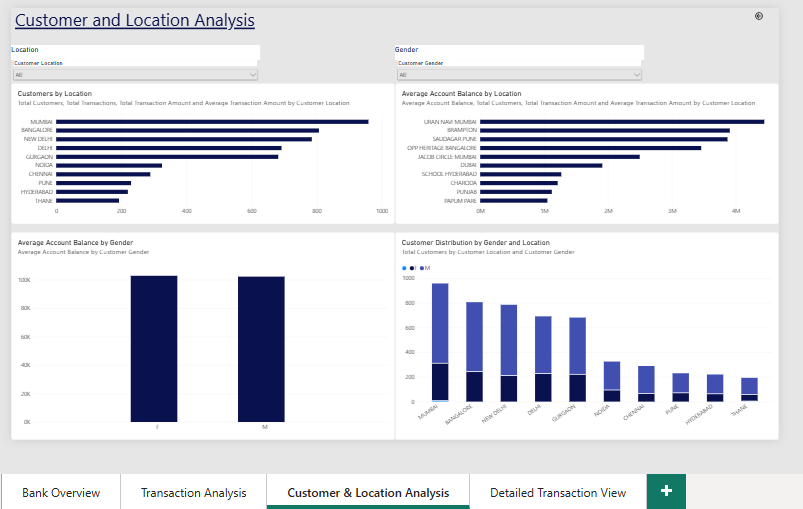

Layout of this report page (visuals, bound fields, positions):
{"tool":"powerbi","page":{"name":" Customer & Location Analysis","canvas":[1920,1080],"ordinal":2},"visuals":[{"type":"textbox","box":[10,0,612.5,57.5],"z":0},{"type":"slicer","title":"Location","fields":{"Values":["bank_transactions.Customer Location"]},"box":[0,92.5,622.5,95],"z":1000},{"type":"slicer","title":"Gender","fields":{"Values":["bank_transactions.Customer Gender"]},"box":[960,92.5,622.5,95],"z":2000},{"type":"clusteredBarChart","title":"Customers by Location","fields":{"Category":["bank_transactions.Customer Location"],"Y":["bank_transactions.Total Customers"]},"box":[0,187.5,960,352.5],"z":3000},{"type":"clusteredBarChart","title":"Average Account Balance by Location","fields":{"Category":["bank_transactions.Customer Location"],"Y":["bank_transactions.Average Account Balance"]},"box":[960,187.5,960,352.5],"z":4000},{"type":"clusteredColumnChart","title":"Average Account Balance by Gender","fields":{"Category":["bank_transactions.Customer Gender"],"Y":["bank_transactions.Average Account Balance"]},"box":[0,560,960,520],"z":5000},{"type":"columnChart","title":"Customer Distribution by Gender and Location","fields":{"Category":["bank_transactions.Customer Location"],"Series":["bank_transactions.Customer Gender"],"Y":["bank_transactions.Total Customers"]},"box":[960,560,960,520],"z":6000},{"type":"actionButton","box":[1820,0,100,40],"z":7000}]}

Visuals, with their boxes on the page's 1920x1080 design canvas (x1, y1, x2, y2). These are canvas units, not pixel positions in the 803x509 screenshot, which may show the page scaled, cropped or inside an application window:
textbox: (10, 0, 622, 58)
"Location" slicer: (0, 92, 622, 188)
"Gender" slicer: (960, 92, 1582, 188)
"Customers by Location" clusteredBarChart: (0, 188, 960, 540)
"Average Account Balance by Location" clusteredBarChart: (960, 188, 1920, 540)
"Average Account Balance by Gender" clusteredColumnChart: (0, 560, 960, 1080)
"Customer Distribution by Gender and Location" columnChart: (960, 560, 1920, 1080)
actionButton: (1820, 0, 1920, 40)
